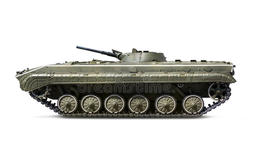bmp: (16, 43, 237, 117)
